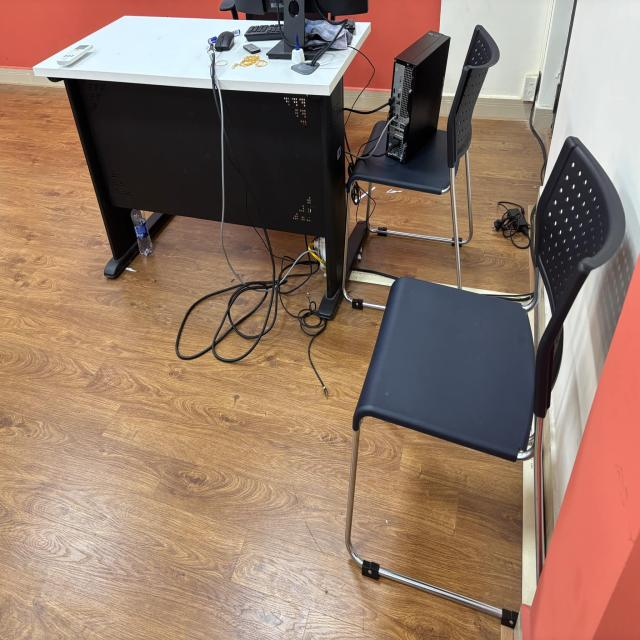obstacle: (344, 134, 626, 628), (32, 13, 372, 317), (343, 23, 500, 309)
